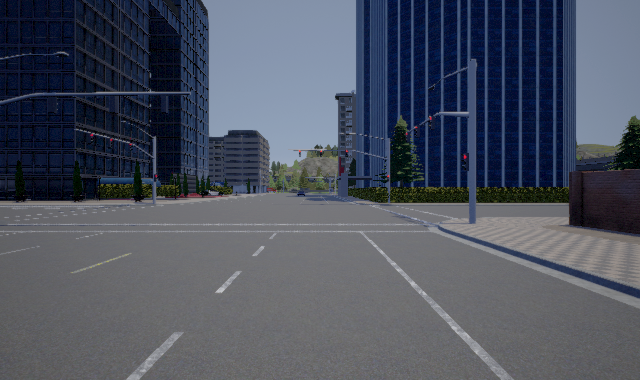traffic_light: (461, 153, 469, 171), (428, 116, 435, 130), (414, 125, 420, 138), (88, 133, 94, 144), (405, 132, 410, 143), (108, 138, 113, 148), (128, 143, 133, 152), (154, 174, 158, 182), (345, 150, 348, 157), (387, 175, 389, 182), (320, 150, 322, 157), (299, 150, 301, 157)
